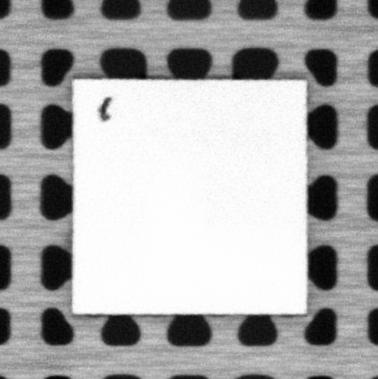DIE_INK: (96, 95, 116, 124)
